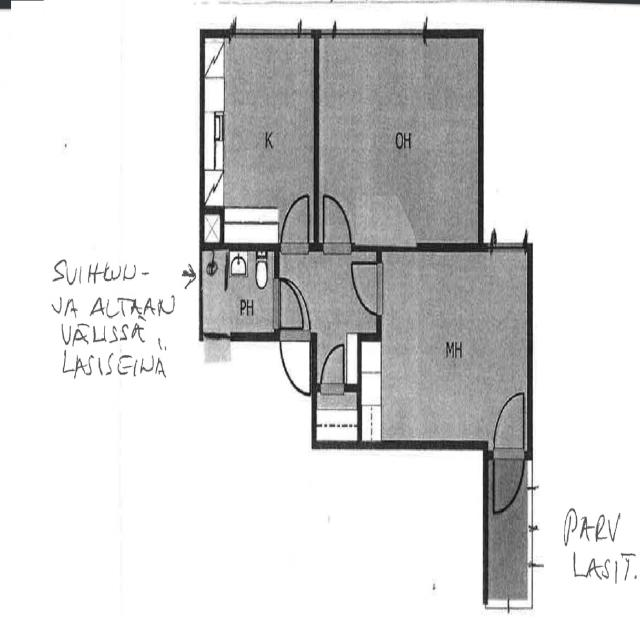door: (280, 274, 310, 342), (494, 450, 524, 518), (494, 392, 524, 460), (280, 332, 310, 399), (281, 192, 308, 251), (274, 278, 305, 329), (351, 264, 382, 314), (324, 192, 350, 251), (321, 339, 344, 392)
